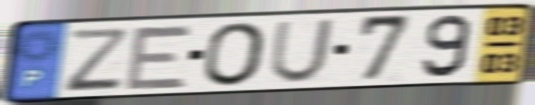7: (356, 14, 413, 86)
9: (421, 12, 475, 79)
E: (122, 24, 197, 92)
O: (201, 19, 269, 88)
U: (266, 17, 338, 85)
Z: (62, 26, 129, 94)
